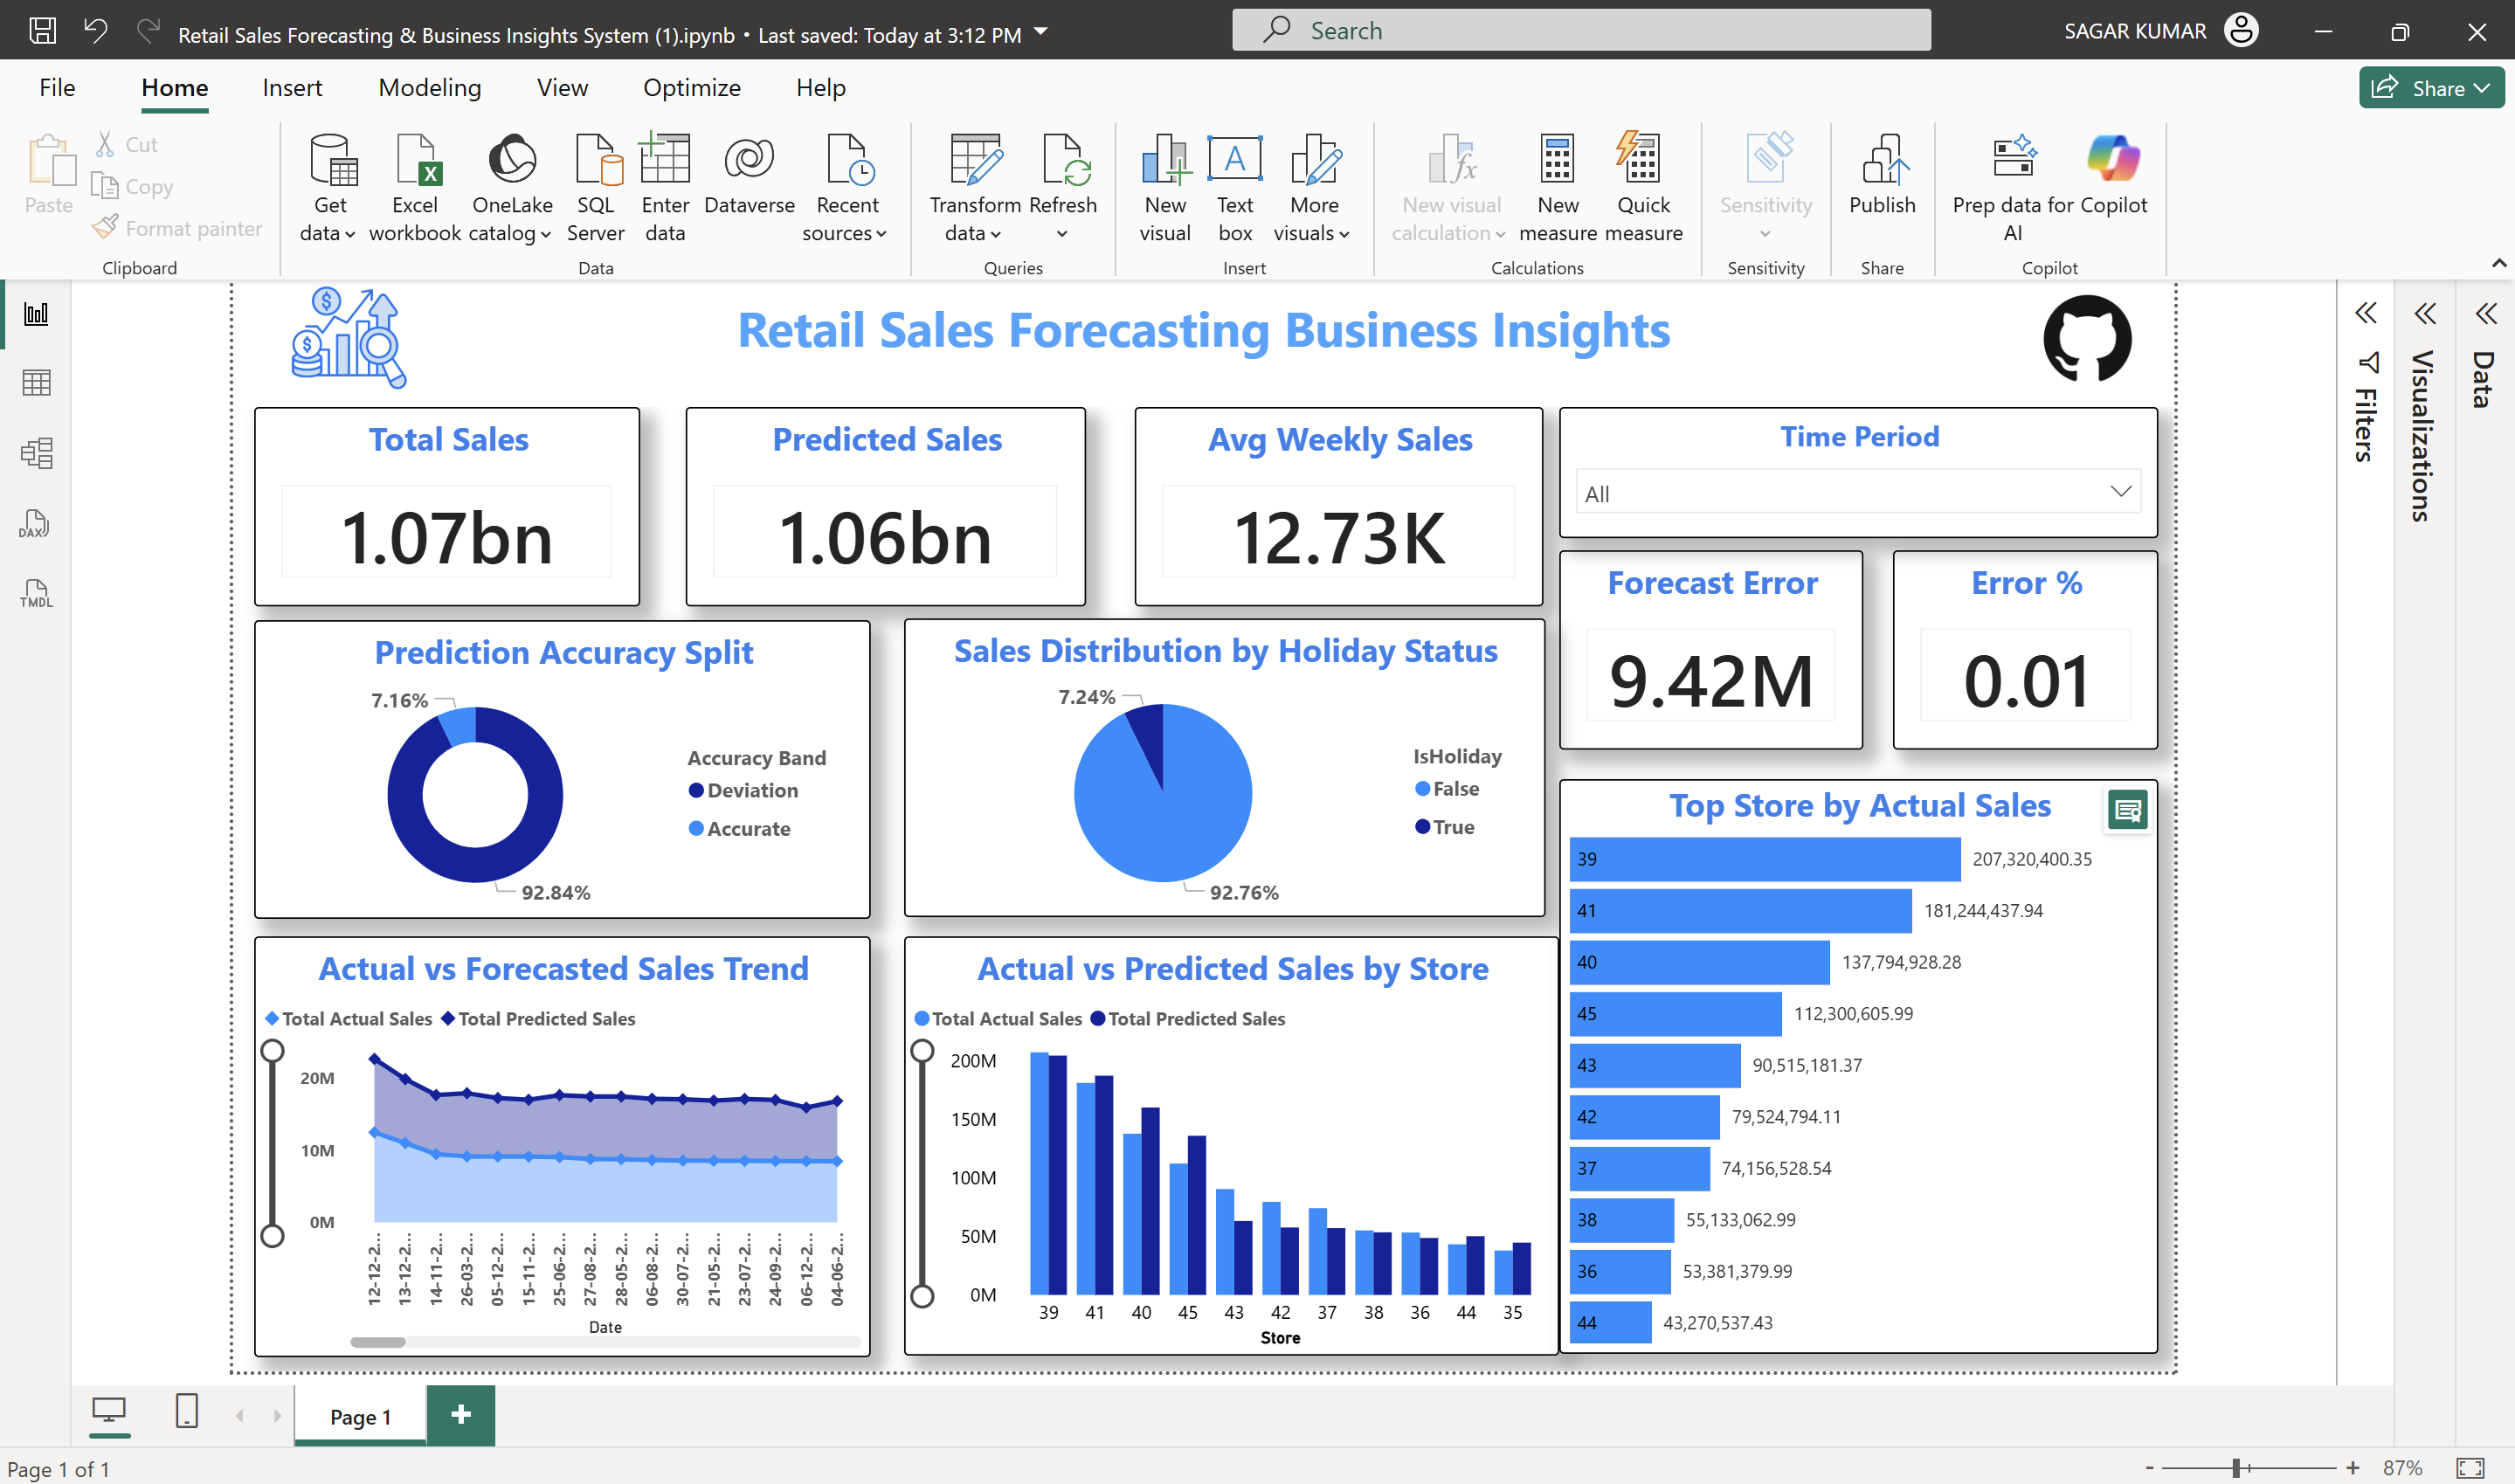

Layout of this report page (visuals, bound fields, positions):
{"tool":"powerbi","page":{"name":"Page 1","canvas":[1280,720],"ordinal":0},"visuals":[{"type":"cardVisual","title":"Total Sales","fields":{"Data":["Predictions.Total Actual Sales"]},"box":[13.8,84.1,254.6,131.3],"z":0},{"type":"cardVisual","title":"Avg Weekly Sales","fields":{"Data":["Predictions.Avg Weekly Sales"]},"box":[594.4,84.1,269.6,131.3],"z":1000},{"type":"cardVisual","title":"Predicted Sales ","fields":{"Data":["Predictions.Total Predicted Sales"]},"box":[298.4,84.1,263.8,131.3],"z":2000},{"type":"cardVisual","title":"Forecast Error","fields":{"Data":["Predictions.Forecast Error"]},"box":[874.4,178.6,200.4,131.3],"z":3000},{"type":"cardVisual","title":"Error %","fields":{"Data":["Predictions.Error Percentage"]},"box":[1094.4,178.6,175.1,131.3],"z":4000},{"type":"pieChart","title":"Sales Distribution by Holiday Status","fields":{"Category":["Predictions.IsHoliday"],"Y":["Predictions.Total Actual Sales"]},"box":[442.4,223.5,422.8,197],"z":5000},{"type":"clusteredColumnChart","title":"Actual vs Predicted Sales by Store","fields":{"Category":["Predictions.Store"],"Y":["Predictions.Total Actual Sales","Predictions.Total Predicted Sales"]},"box":[442.4,433.2,432,276.5],"z":6000},{"type":"donutChart","title":"Prediction Accuracy Split","fields":{"Category":["Predictions.Accuracy Band"],"Y":["Predictions.Total Actual Sales"]},"box":[13.8,224.6,406.7,197],"z":7000},{"type":"stackedAreaChart","title":"Actual vs Forecasted Sales Trend","fields":{"Y":["Predictions.Total Actual Sales","Predictions.Total Predicted Sales"],"Category":["Predictions.Date"]},"box":[13.8,433.2,406.7,277.6],"z":8000},{"type":"slicer","title":"Time Period","fields":{"Values":["Predictions.Store","Predictions.Year","Predictions.IsHoliday"]},"box":[874.4,84.1,395.1,86.4],"z":9000},{"type":"horizontalBarChartPBICraft","title":"Top Store by Actual Sales","fields":{"overlapValues":["Predictions.Total Actual Sales"],"category":["Predictions.Store"]},"box":[874.4,329.5,395.1,379],"z":10000},{"type":"textbox","box":[0,0,1279.9,84.1],"z":11000},{"type":"image","box":[13.8,0,125.6,77.2],"z":12000},{"type":"image","box":[1168.1,0,109.4,77.2],"z":13000}]}

Visuals, with their boxes on the page's 1280x720 design canvas (x1, y1, x2, y2). These are canvas units, not pixel positions in the 2515x1484 screenshot, which may show the page scaled, cropped or inside an application window:
"Total Sales" cardVisual: {"left": 14, "top": 84, "right": 268, "bottom": 215}
"Avg Weekly Sales" cardVisual: {"left": 594, "top": 84, "right": 864, "bottom": 215}
"Predicted Sales " cardVisual: {"left": 298, "top": 84, "right": 562, "bottom": 215}
"Forecast Error" cardVisual: {"left": 874, "top": 179, "right": 1075, "bottom": 310}
"Error %" cardVisual: {"left": 1094, "top": 179, "right": 1270, "bottom": 310}
"Sales Distribution by Holiday Status" pieChart: {"left": 442, "top": 224, "right": 865, "bottom": 420}
"Actual vs Predicted Sales by Store" clusteredColumnChart: {"left": 442, "top": 433, "right": 874, "bottom": 710}
"Prediction Accuracy Split" donutChart: {"left": 14, "top": 225, "right": 420, "bottom": 422}
"Actual vs Forecasted Sales Trend" stackedAreaChart: {"left": 14, "top": 433, "right": 420, "bottom": 711}
"Time Period" slicer: {"left": 874, "top": 84, "right": 1270, "bottom": 170}
"Top Store by Actual Sales" horizontalBarChartPBICraft: {"left": 874, "top": 330, "right": 1270, "bottom": 708}
textbox: {"left": 0, "top": 0, "right": 1280, "bottom": 84}
image: {"left": 14, "top": 0, "right": 139, "bottom": 77}
image: {"left": 1168, "top": 0, "right": 1278, "bottom": 77}
